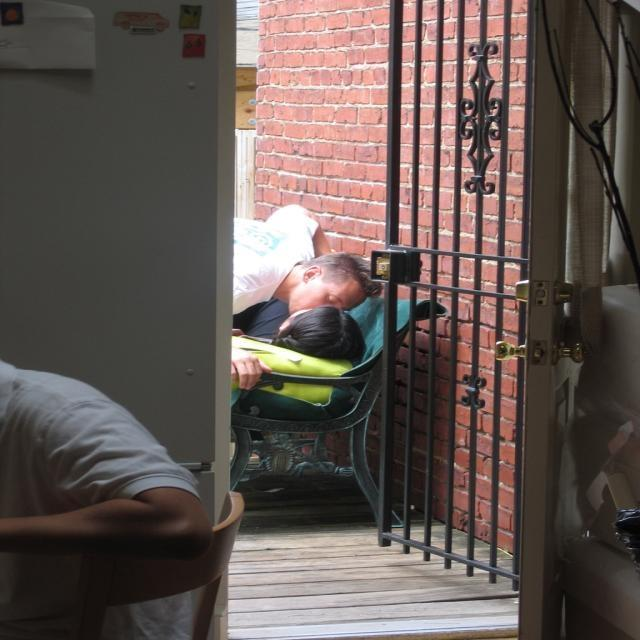door: (212, 0, 574, 640)
